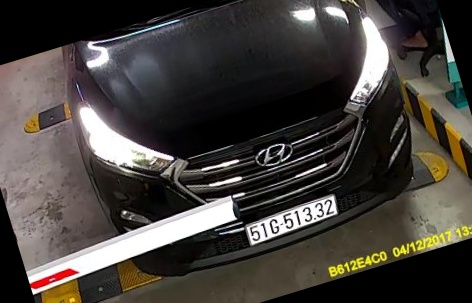plate: (240, 198, 337, 248)
